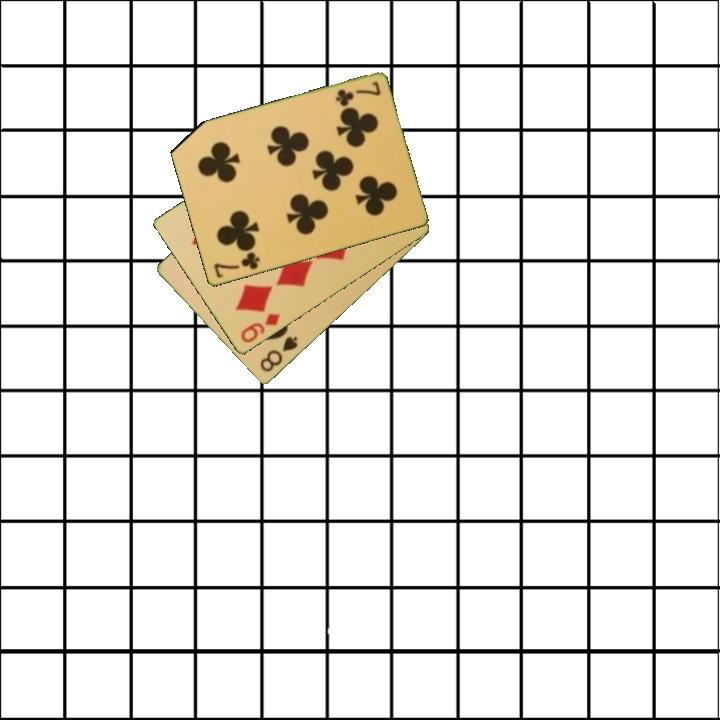7c: (210, 249, 263, 281), (331, 78, 383, 109)
8s: (256, 333, 301, 375)
9d: (237, 310, 283, 346)
